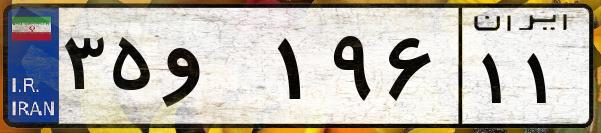1: (270, 28, 330, 110), (475, 38, 525, 113), (525, 38, 570, 115)
3: (57, 26, 110, 100)
5: (110, 28, 158, 98)
6: (385, 28, 445, 110)
9: (330, 28, 385, 110)
و: (158, 20, 270, 120)
